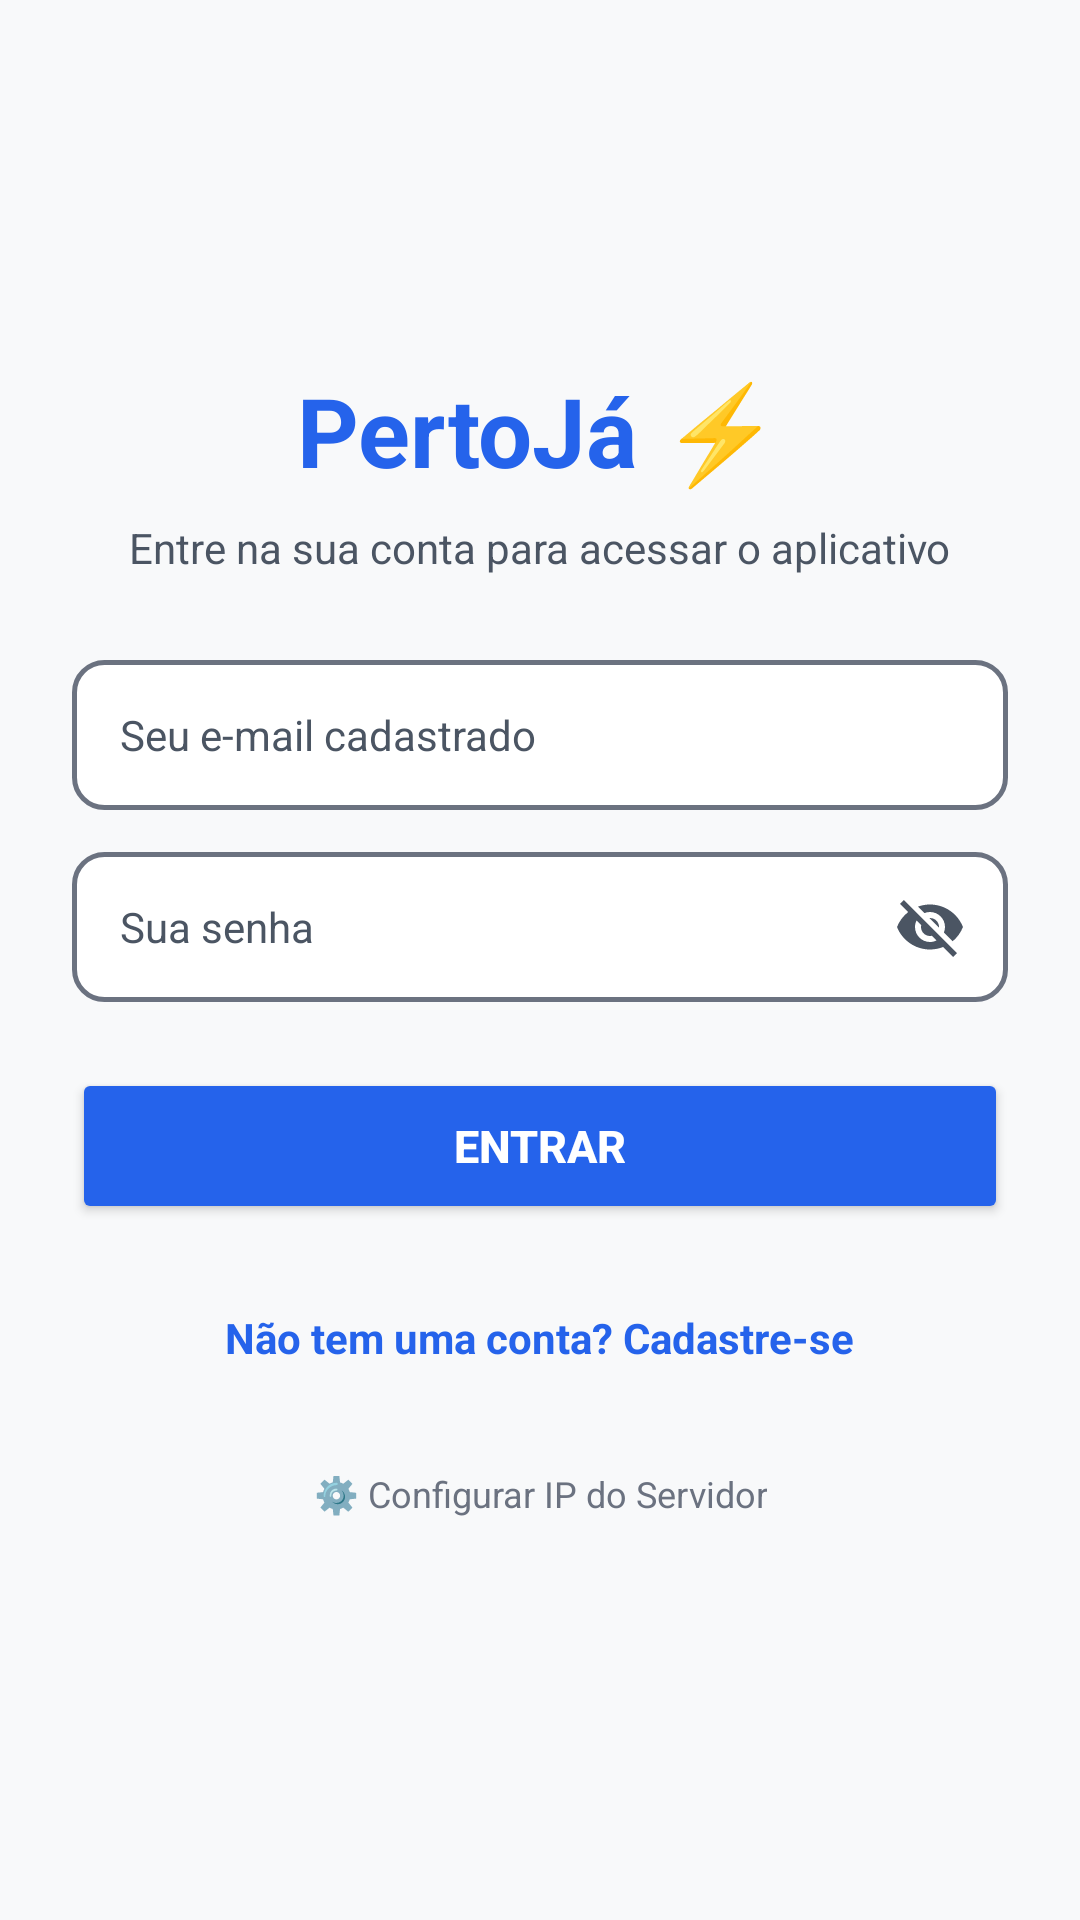

Screen size 1080px x 1920px. Icon name, then its box in pixels as (x1, y1, x2, y2):
Mostrar ou ocultar senha: (897, 900, 963, 957)
